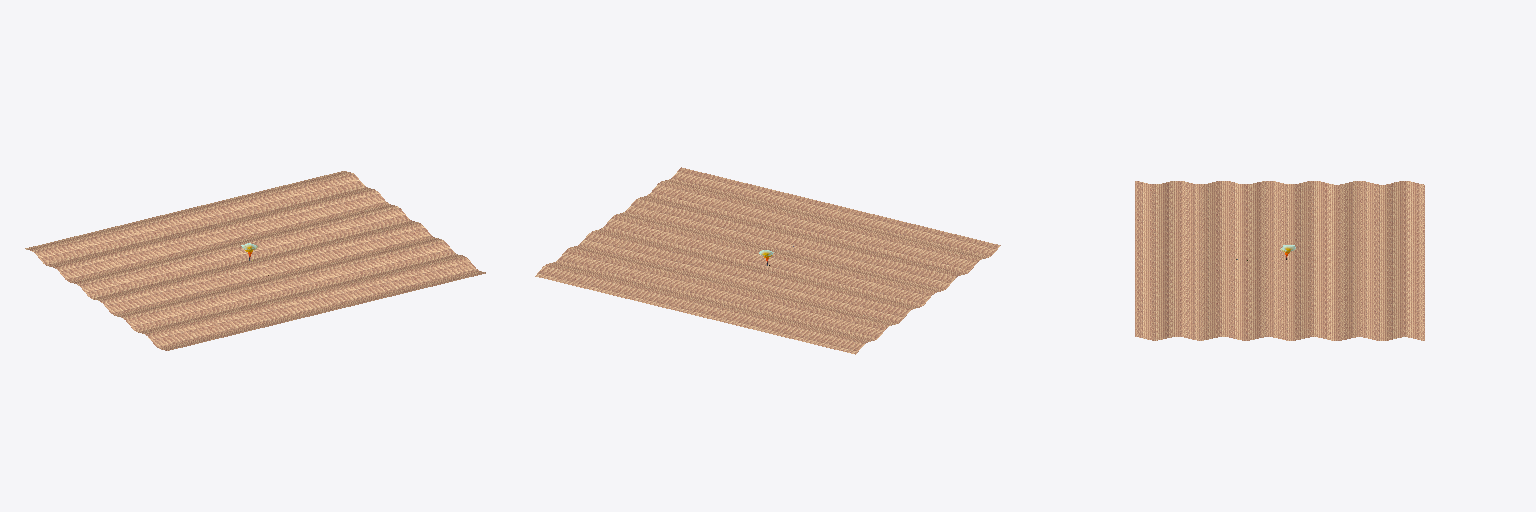
3 views of the same model, side by side, from view 1: azimuth 30°, elevation 25°; view 2: azimuth 150°, elevation 25°; view 3: azimuth 270°, elevation 25° (orthographic).
Parts seen in each view (by area): view 1: Sand; view 2: Sand; view 3: Sand.
Part boxes in pixels (bbox=[...]): Sand: bbox=[25, 171, 485, 350]; Sand: bbox=[535, 167, 1000, 354]; Sand: bbox=[1135, 181, 1424, 340].
Size of the model in its own units: 667 by 27.35 by 519.
Materials: 7 (7 with a texture image).